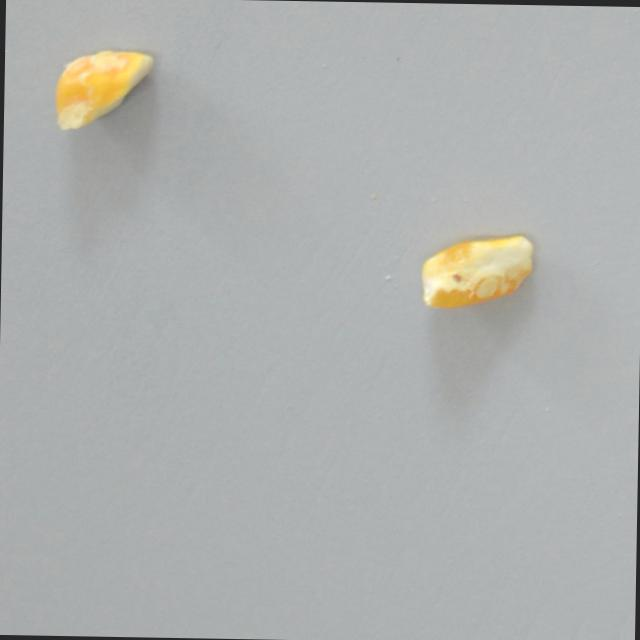dañado: (48, 42, 155, 134)
punto_negro: (416, 226, 534, 322)
